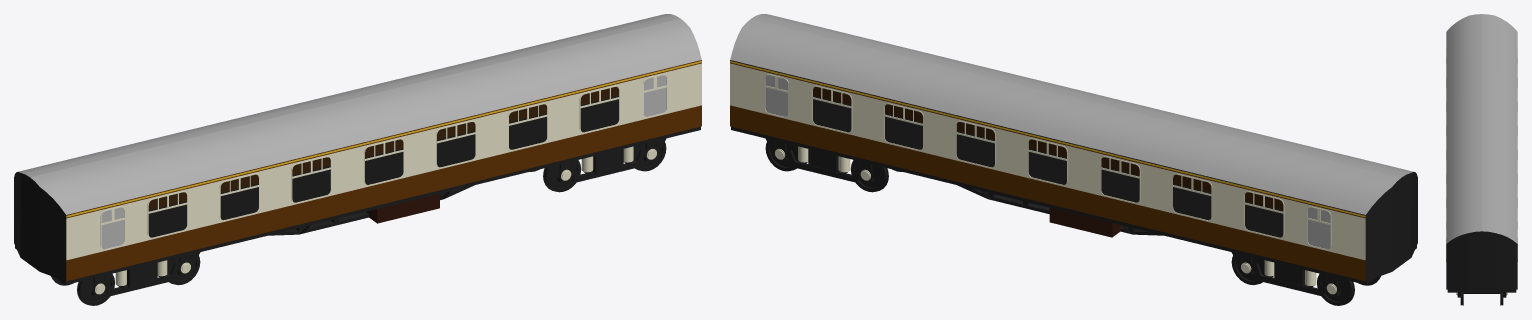
The model's file is br_coach_mk1.dae.
The picture shows the model from 3 angles, left to right: view 1: azimuth 30°, elevation 25°; view 2: azimuth 150°, elevation 25°; view 3: azimuth 270°, elevation 25°; orthographic projection. The views are drawn at different scales.
Visible parts, largest first — view 1: group_1 (×17), group_0, BOGEY_REAR, BOGEY_FRONT, SketchUp, group_2; view 2: group_1 (×16), group_0, BOGEY_REAR, BOGEY_FRONT, SketchUp, group_2; view 3: group_1 (×2), group_0, BOGEY_REAR.
Part boxes in pixels (box(x1,y1,x2,y2)): group_1 (×17): box(14, 14, 701, 281); group_0: box(15, 97, 700, 284); BOGEY_REAR: box(550, 138, 666, 182); BOGEY_FRONT: box(84, 252, 200, 296); SketchUp: box(369, 193, 439, 223); group_2: box(269, 185, 473, 235); group_1 (×16): box(730, 14, 1417, 281); group_0: box(731, 97, 1416, 284); BOGEY_REAR: box(765, 138, 881, 182); BOGEY_FRONT: box(1231, 252, 1347, 296); SketchUp: box(1049, 208, 1120, 237); group_2: box(958, 185, 1162, 235); group_1 (×2): box(1446, 14, 1517, 291); group_0: box(1447, 289, 1516, 292); BOGEY_REAR: box(1463, 292, 1500, 293).
Size of the model in its own units: 779 by 109 by 149.
